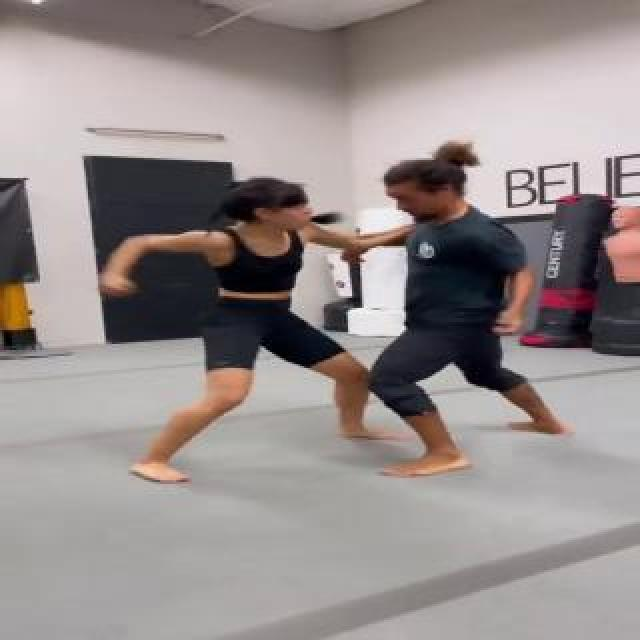fight: (60, 118, 572, 504)
